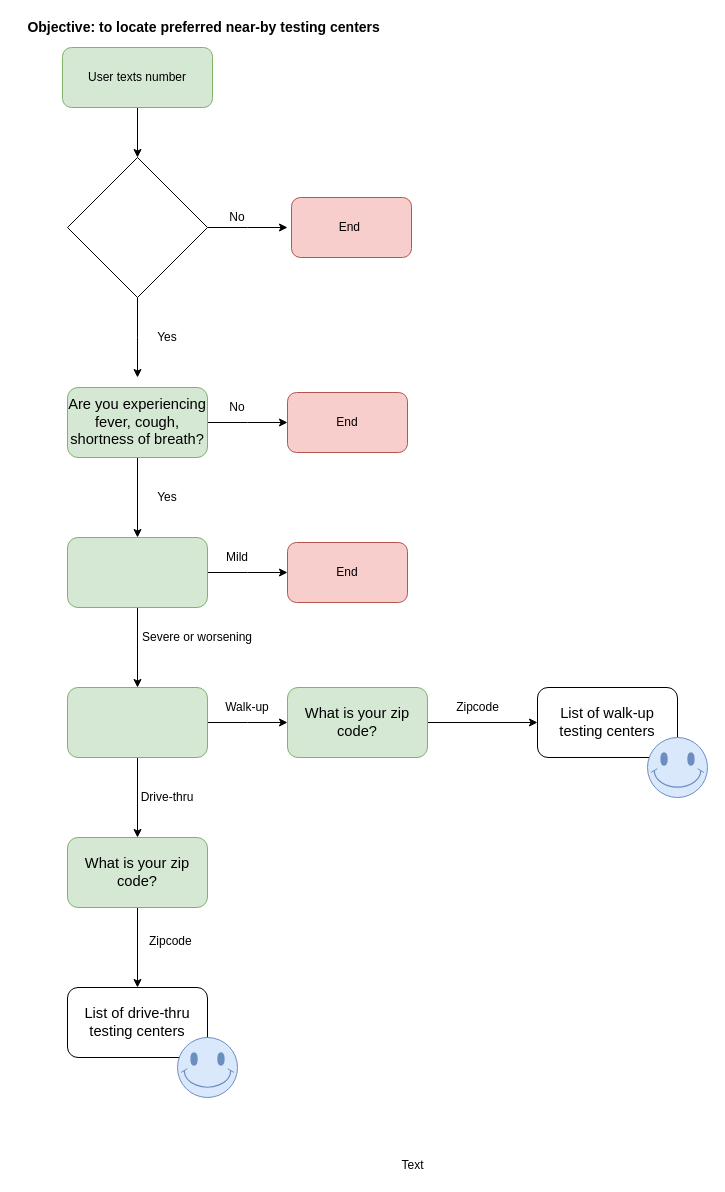
The diagram is 725 pixels wide and 1192 high, and some of its shapes have lost their labels. Here are the shapes that lost their labels. From the top down, the centre of each, then its label:
[137,227]: Greeting message prompting user to start questionnaire
[137,572]: How would you describe your symptoms?
[137,722]: Which type of testing facility do you prefer?
